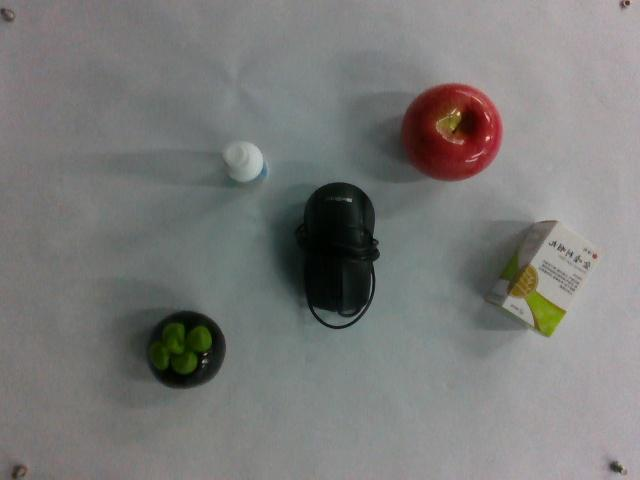apple: (400, 84, 504, 181)
carton: (489, 217, 601, 339)
detergent: (220, 140, 271, 189)
mangosteen: (148, 313, 227, 391)
mouse: (296, 181, 380, 332)
